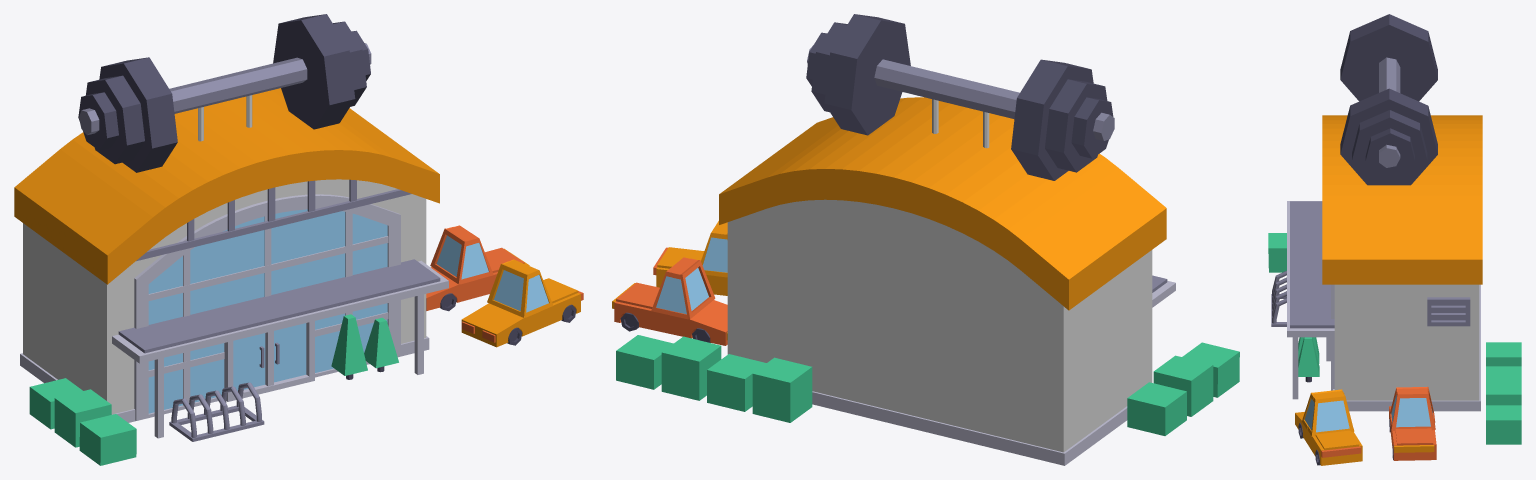
The model's file is gym.glb.
3 renders of one model, left to right at view 1: azimuth 30°, elevation 25°; view 2: azimuth 150°, elevation 25°; view 3: azimuth 270°, elevation 25°, orthographic. The views are drawn at different scales.
Visible parts, largest first — view 1: Cube.014, Cube.013, Cube.016, Circle.016, Cube.066, Cube.015, Cube.056, Cube.150, Cube.019, Circle.001, Cube.060, Circle.017 (+12 smaller); view 2: Cube.013, Cube.014, Circle.016, Cube.049, Cube.056, Cube.060, Circle.001, Cube.024, Circle.017, Cube.150, Circle.018; view 3: Cube.014, Cube.013, Circle.016, Cube.066, Cube.049, Cube.150, Cube.060, Circle.017, Circle.018, Cube.024, Cube.050, Circle.001 (+8 smaller).
Part boxes in pixels (<box>): Cube.014: <box>14,88,439,284</box>; Cube.013: <box>23,179,426,414</box>; Cube.016: <box>148,209,387,413</box>; Circle.016: <box>99,14,355,172</box>; Cube.066: <box>118,259,440,353</box>; Cube.015: <box>134,194,400,420</box>; Cube.056: <box>29,378,136,465</box>; Cube.150: <box>461,259,580,347</box>; Cube.019: <box>224,321,314,401</box>; Circle.001: <box>79,43,371,135</box>; Cube.060: <box>426,225,524,310</box>; Circle.017: <box>85,21,366,164</box>; Cube.013: <box>727,199,1152,452</box>; Cube.014: <box>719,97,1166,310</box>; Circle.016: <box>824,14,1093,180</box>; Cube.049: <box>616,335,812,422</box>; Cube.056: <box>1127,342,1239,435</box>; Cube.060: <box>614,257,727,345</box>; Circle.001: <box>807,45,1114,140</box>; Cube.024: <box>812,391,1127,465</box>; Circle.017: <box>811,22,1107,172</box>; Cube.150: <box>656,221,727,295</box>; Circle.018: <box>806,32,1113,158</box>; Cube.014: <box>1322,115,1482,284</box>; Cube.013: <box>1334,284,1479,400</box>; Circle.016: <box>1340,14,1437,185</box>; Cube.066: <box>1290,201,1334,328</box>; Cube.049: <box>1486,342,1521,444</box>; Cube.150: <box>1295,389,1362,465</box>; Cube.060: <box>1389,386,1436,460</box>; Circle.017: <box>1352,110,1427,183</box>; Circle.018: <box>1365,128,1414,176</box>; Cube.024: <box>1333,284,1480,411</box>; Cube.050: <box>1427,297,1470,326</box>; Circle.001: <box>1379,57,1400,167</box>.
Size of the model in its own units: 7.34 by 4.48 by 3.64.
